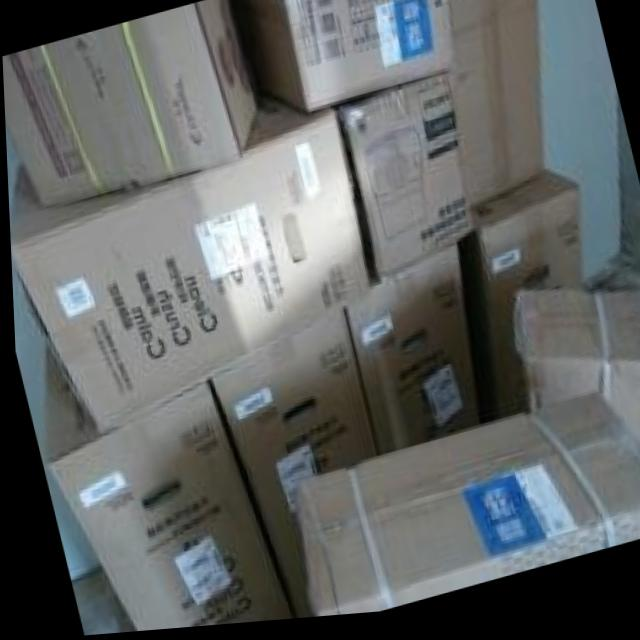box: (8, 93, 368, 441), (290, 401, 640, 622), (43, 337, 291, 633), (2, 0, 258, 208), (207, 312, 373, 623), (454, 180, 586, 434), (336, 78, 472, 298), (341, 247, 476, 463), (227, 0, 447, 121), (515, 299, 640, 466), (446, 0, 539, 223)
